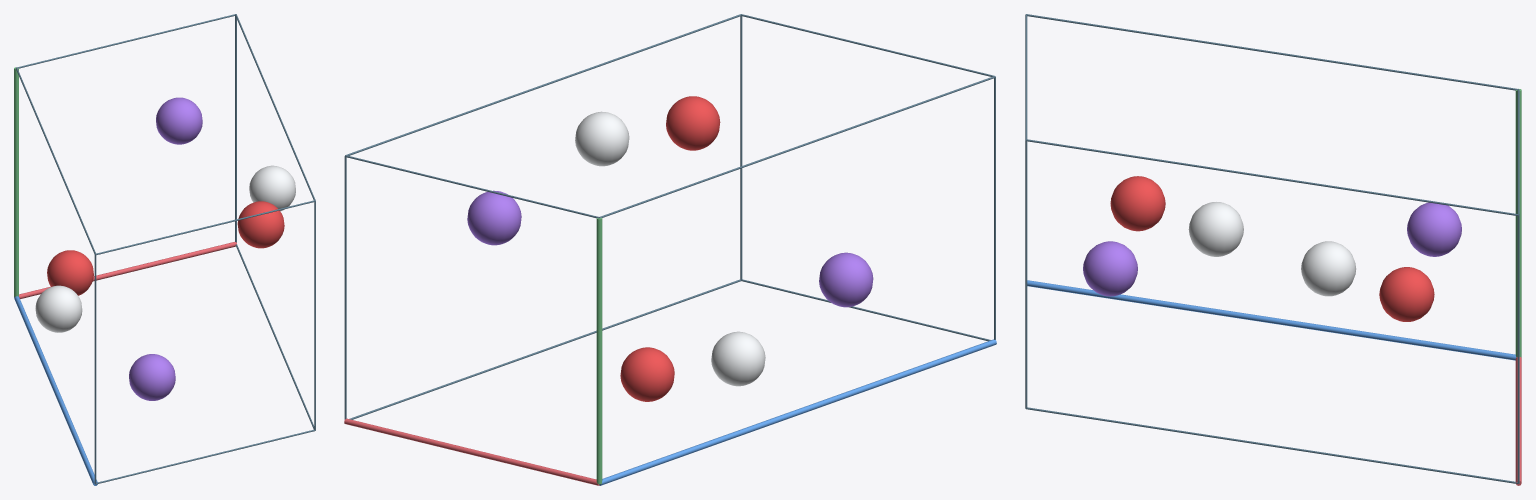
The model's file is cod-8104275.glb.
3 views of the same model, side by side, from view 1: azimuth 30°, elevation 25°; view 2: azimuth 150°, elevation 25°; view 3: azimuth 270°, elevation 25° (orthographic). The views are drawn at different scales.
Visible parts, largest first — view 1: Ô mạng và các trục a, b, c, Na1 · Na · 1 (×2), H1 · H · 1 (×2), O1 · O · 1 (×2); view 2: Ô mạng và các trục a, b, c, H1 · H · 1 (×2), O1 · O · 1 (×2), Na1 · Na · 1 (×2); view 3: Ô mạng và các trục a, b, c, H1 · H · 1 (×2), O1 · O · 1 (×2), Na1 · Na · 1 (×2).
Part boxes in pixels (left/top/right/bottom): Ô mạng và các trục a, b, c: left=14, top=14, right=315, bottom=485; Na1 · Na · 1 (×2): left=129, top=97, right=202, bottom=400; H1 · H · 1 (×2): left=35, top=165, right=295, bottom=332; O1 · O · 1 (×2): left=47, top=201, right=284, bottom=295; Ô mạng và các trục a, b, c: left=344, top=14, right=996, bottom=485; H1 · H · 1 (×2): left=575, top=111, right=765, bottom=386; O1 · O · 1 (×2): left=620, top=96, right=720, bottom=401; Na1 · Na · 1 (×2): left=467, top=190, right=873, bottom=307; Ô mạng và các trục a, b, c: left=1025, top=14, right=1521, bottom=485; H1 · H · 1 (×2): left=1188, top=202, right=1356, bottom=296; O1 · O · 1 (×2): left=1110, top=176, right=1434, bottom=321; Na1 · Na · 1 (×2): left=1083, top=202, right=1461, bottom=296.
Bounding box in the file's own units: 5.54 × 3.48 × 5.76.
